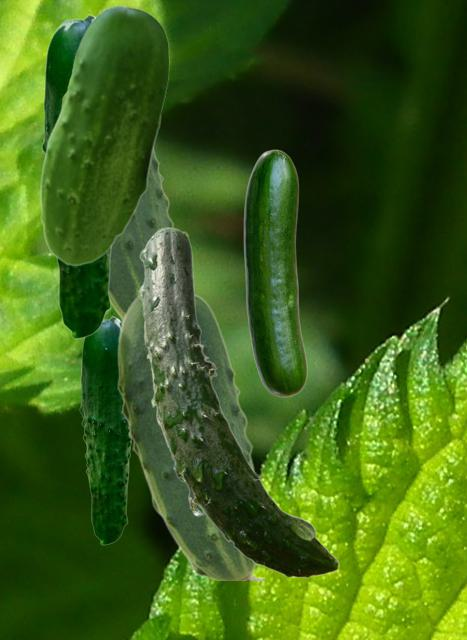cucumber: (138, 227, 338, 577), (117, 294, 263, 579), (40, 5, 168, 265), (41, 14, 112, 338), (243, 149, 306, 396), (79, 316, 131, 544), (110, 151, 174, 319)
